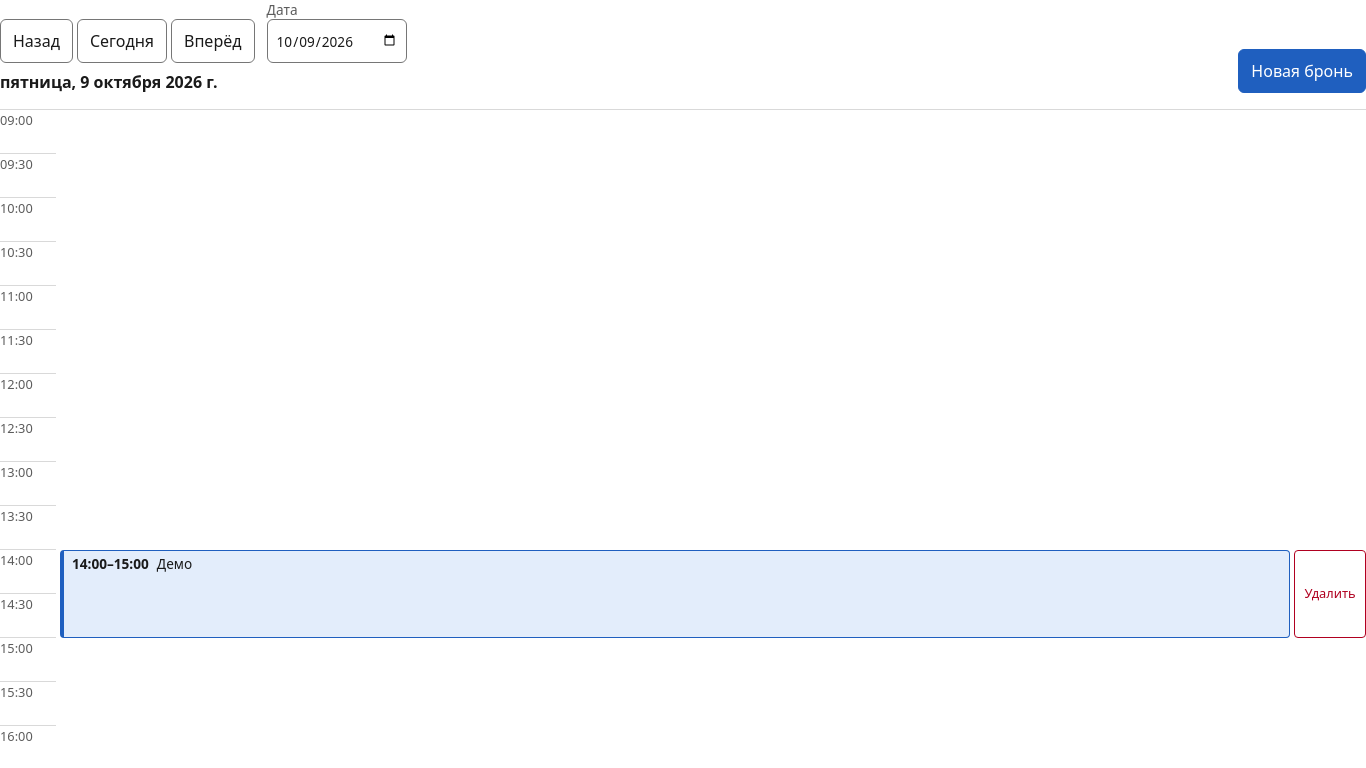
Test case: Удаление: кнопка и подтверждение (F6, B11, A2) › F6, A2: «Удалить» открывает alertdialog с описанием брони, фокус на «Отмена», window.confirm не вызывается, DELETE не ушёл
Click the button with aria-label "Удалить бронь 14:00–15:00". click: (1330, 594)
box: [1294, 550, 1365, 638]
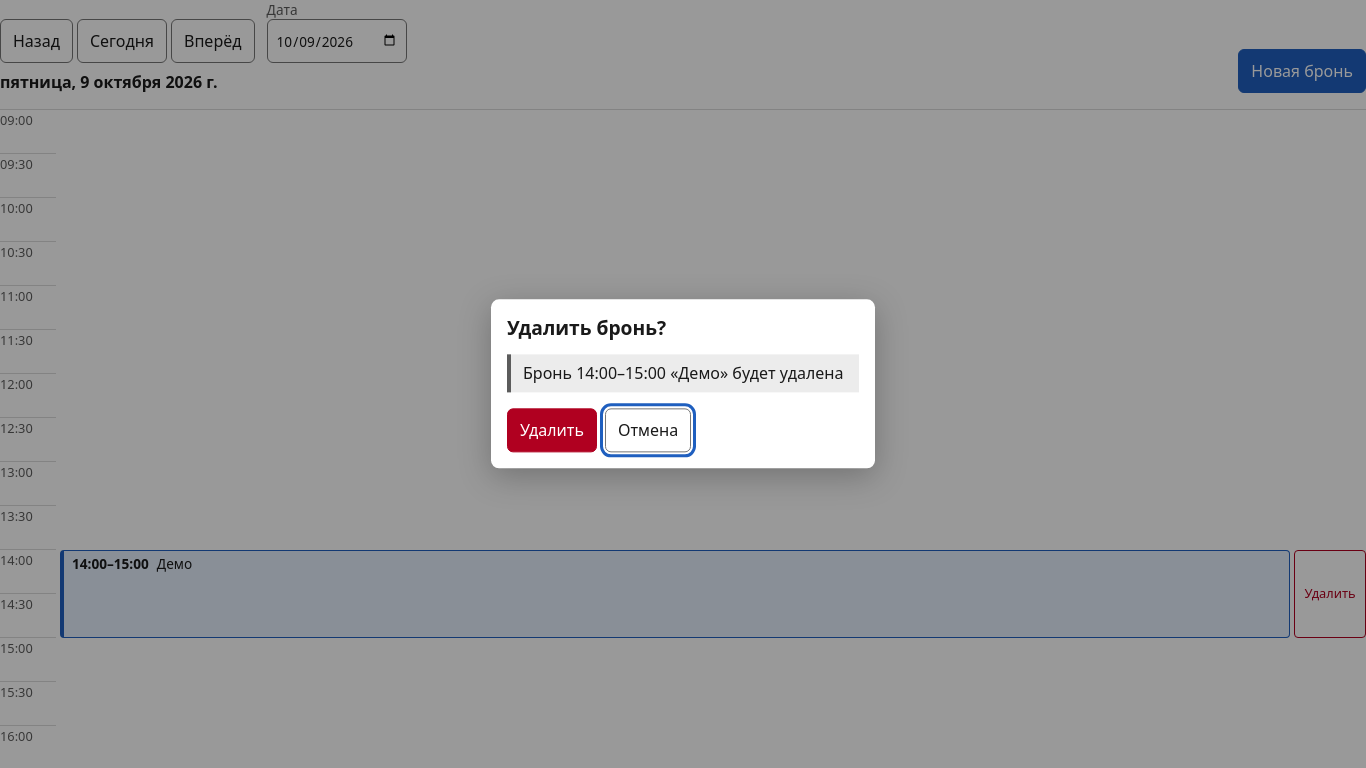
Check: the dialog "Удалить бронь?" is shown, box [491, 299, 875, 469]
Check: the dialog "Удалить бронь?" shows "14:00–15:00", box [576, 362, 728, 384]
Check: the dialog "Удалить бронь?" shows "Демо", box [576, 362, 728, 384]
